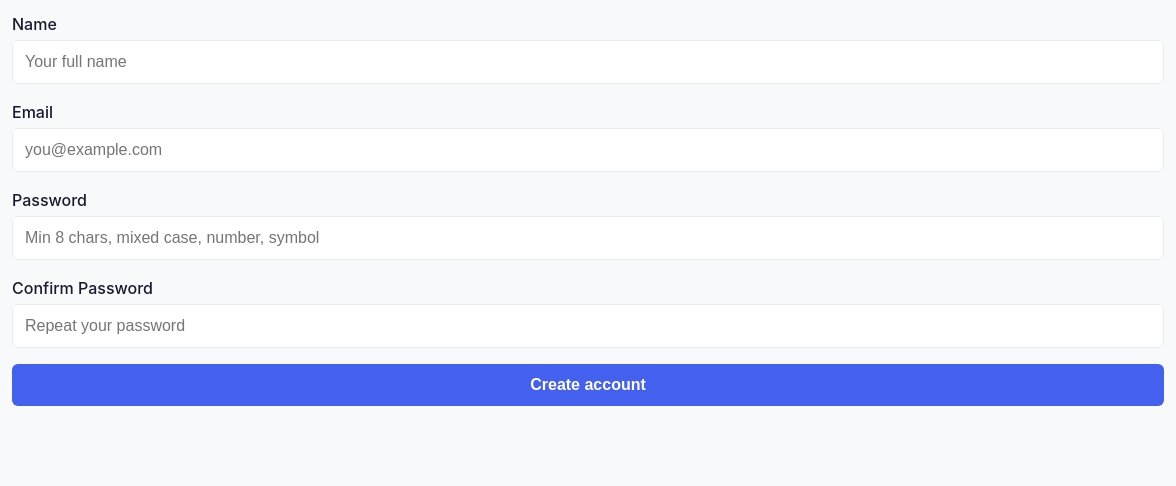
Test: SignupForm › shows password validation error when passwords do not match
Type "Password1!" into the password field labelled "Password".
click(588, 238); type("Password1!")  # box [12,216,1164,260]
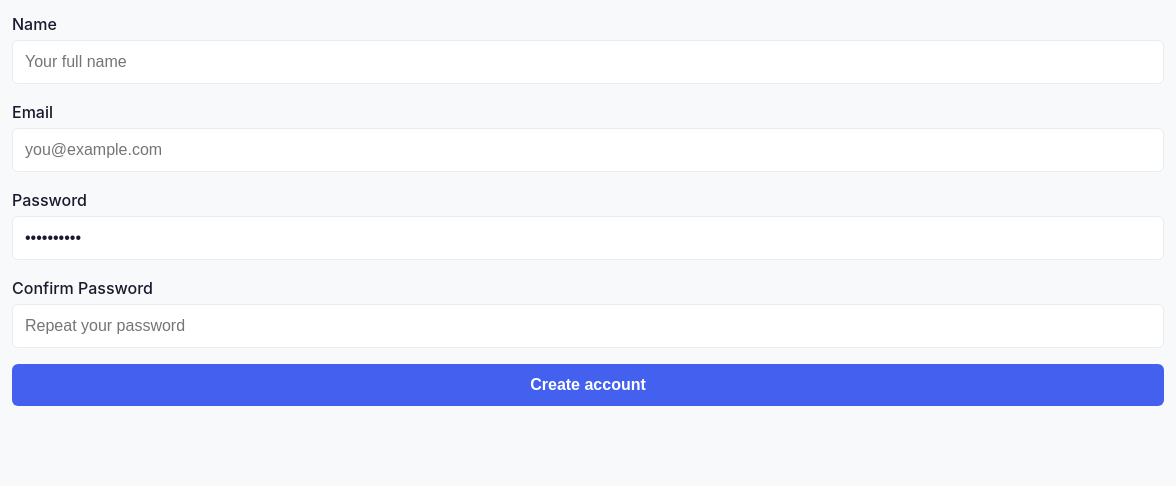
Type "DifferentPass1!" into the password field labelled "Confirm Password".
click(588, 326); type("DifferentPass1!")  # box [12,304,1164,348]
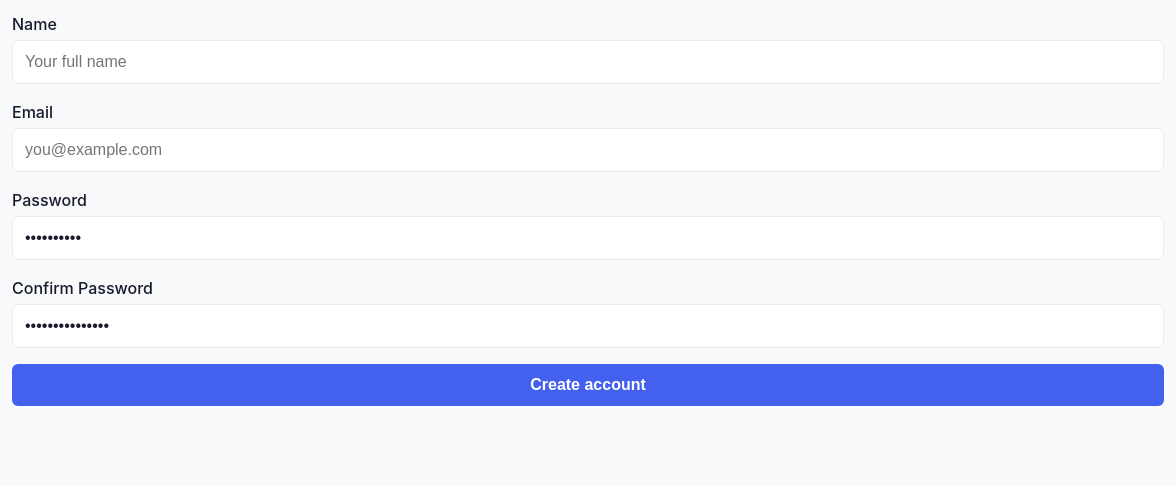
Submit the form
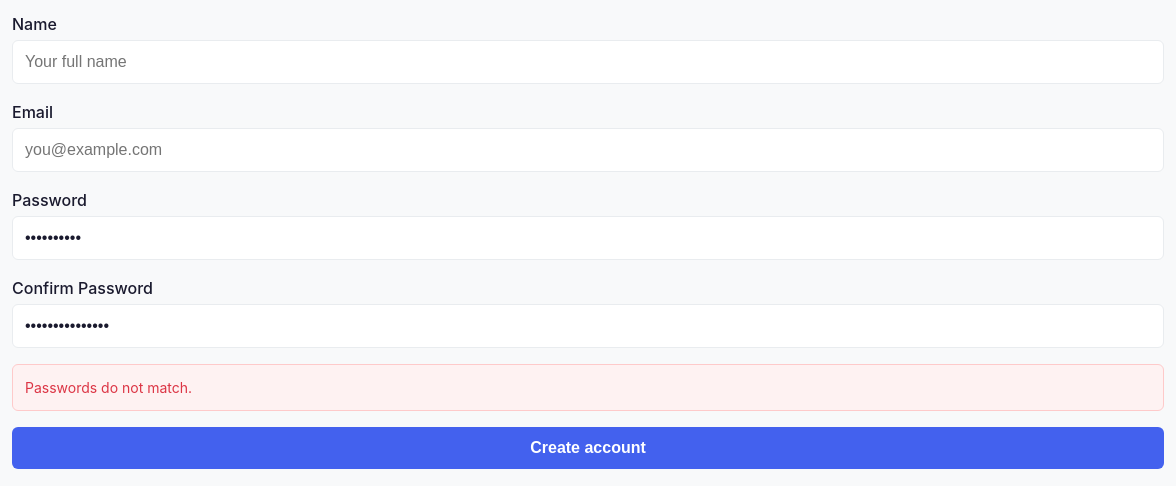
expect the form shows "Passwords do not match": met, box [25,379,192,396]
